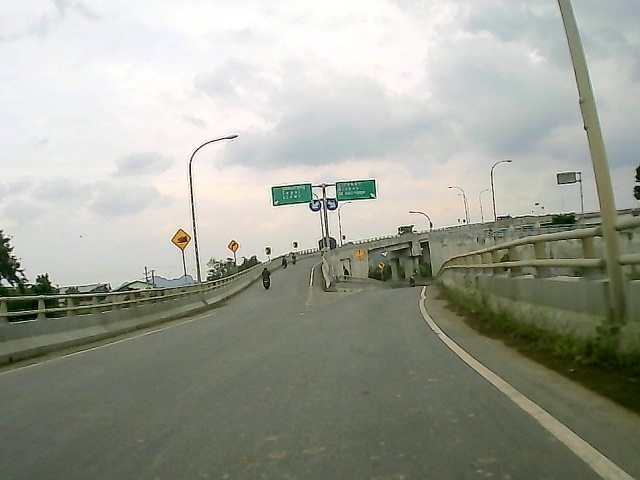Hati-hati: (354, 246, 366, 262)
Jalanan menanjak: (167, 227, 193, 254)
Tikungan ke kanan: (228, 239, 240, 255)
